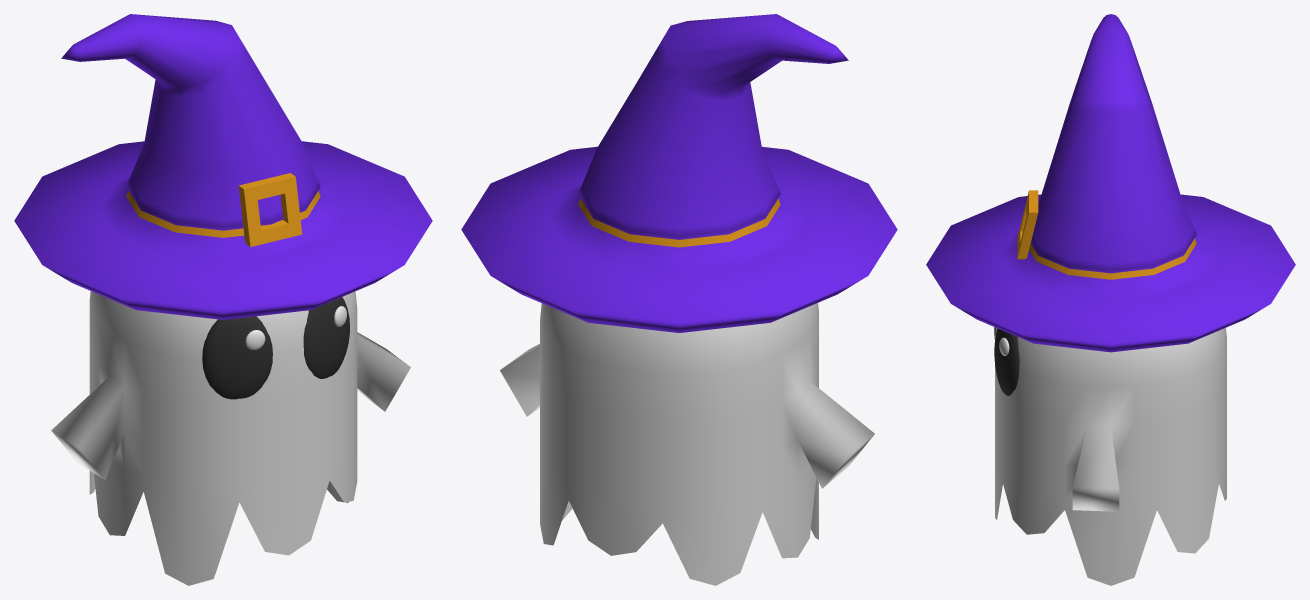
The model's file is ghost.glb.
3 renders of one model, left to right at view 1: azimuth 30°, elevation 25°; view 2: azimuth 150°, elevation 25°; view 3: azimuth 270°, elevation 25°, orthographic. The views are drawn at different scales.
Parts seen in each view (by area): view 1: hat, ghost, eyes, Plane, Cylinder.001; view 2: hat, ghost, Cylinder.001; view 3: hat, ghost, eyes, Cylinder.001, Plane.
Boxes of the visible parts, x1=… form: hat: x1=14, y1=14, x2=432, y2=319; ghost: x1=51, y1=291, x2=410, y2=585; eyes: x1=202, y1=297, x2=349, y2=399; Plane: x1=238, y1=173, x2=302, y2=246; Cylinder.001: x1=126, y1=191, x2=320, y2=237; hat: x1=461, y1=14, x2=897, y2=332; ghost: x1=500, y1=303, x2=874, y2=585; Cylinder.001: x1=578, y1=198, x2=780, y2=247; hat: x1=926, y1=14, x2=1295, y2=352; ghost: x1=995, y1=328, x2=1226, y2=585; eyes: x1=994, y1=327, x2=1019, y2=395; Cylinder.001: x1=1029, y1=238, x2=1196, y2=279; Plane: x1=1017, y1=190, x2=1038, y2=259.
Bounding box in the file's own units: 2.68 × 3.79 × 2.68.
